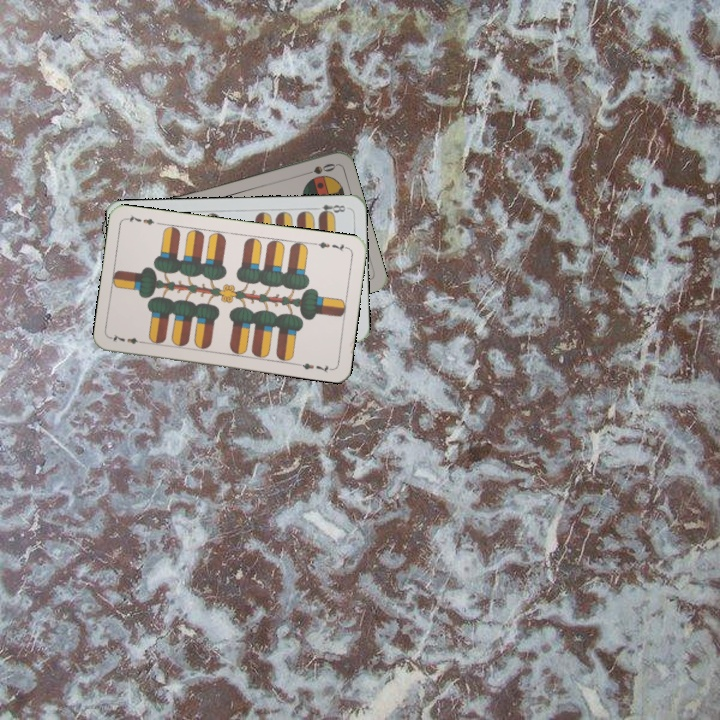E7: (108, 330, 148, 347), (310, 238, 351, 254)
E8: (310, 200, 348, 218)
SO: (298, 159, 338, 178)
